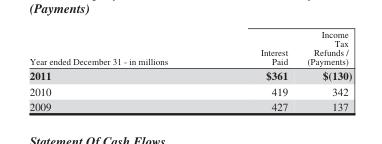table: (28, 28, 351, 112)
table column: (28, 28, 213, 112), (213, 28, 296, 112), (296, 28, 351, 112)
table column header: (28, 28, 351, 67)
table row: (28, 28, 351, 67), (28, 67, 351, 83), (28, 83, 351, 98), (28, 98, 351, 112)
